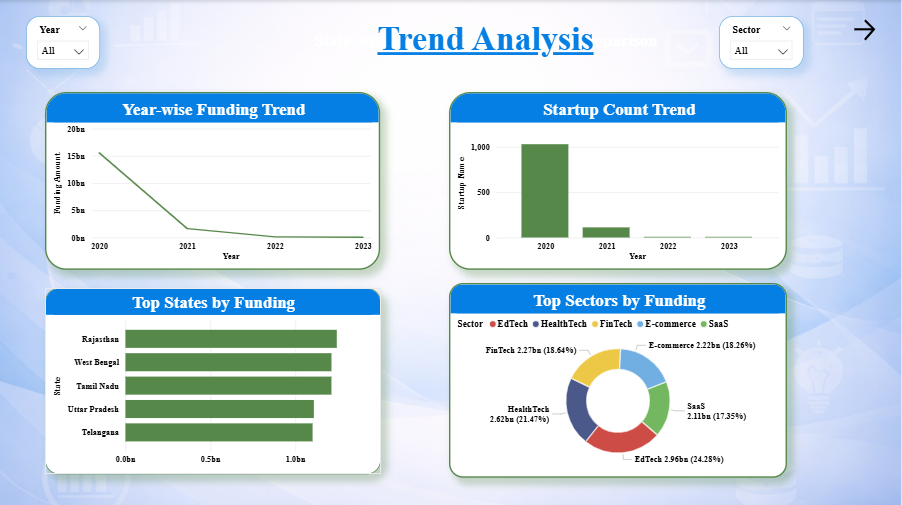

The page's visual inventory and layout, read from the dashboard file:
{"tool":"powerbi","page":{"name":"Trend Analysis","canvas":[1280,720],"ordinal":2},"visuals":[{"type":"textbox","box":[423.8,39.7,538.6,43.9],"z":0},{"type":"slicer","fields":{"Values":["Startup.Sector"]},"box":[1023.3,22.7,120.5,75.1],"z":1000},{"type":"textbox","box":[19,307.5,150,150],"z":2000},{"type":"lineChart","title":"Year-wise Funding Trend","fields":{"Category":["Startup.Year"],"Y":["Sum(Startup.Amount (USD))"]},"box":[68,130.4,474.8,252.3],"z":4000},{"type":"slicer","fields":{"Values":["Startup.Year"]},"box":[41.1,22.7,104.9,75.1],"z":5000},{"type":"columnChart","title":"Startup Count Trend","fields":{"Category":["Startup.Year"],"Y":["CountNonNull(Startup.Startup Name)"]},"box":[640.6,130.4,479.1,252.3],"z":6000},{"type":"barChart","title":"Top States by Funding","fields":{"Category":["Startup.State"],"Y":["Sum(Startup.Amount (USD))"]},"box":[68,408.2,476.2,263.6],"z":7000},{"type":"donutChart","title":"Top Sectors by Funding","fields":{"Category":["Startup.Sector"],"Y":["Sum(Startup.Amount (USD))"]},"box":[640.6,401.1,479.1,276.4],"z":8000},{"type":"actionButton","box":[1179.2,22.7,100.6,39.7],"z":8001},{"type":"textbox","box":[385.5,9.9,613.7,102],"z":8002}]}

Visuals, with their boxes in screenshot pixels (x1, y1, x2, y2), scaled from the page's 1280x720 canvas onto the 902x505 screenshot:
textbox: 299 28 678 59
slicer - Startup.Sector: 721 16 806 69
textbox: 13 216 119 321
"Year-wise Funding Trend" lineChart: 48 91 383 268
slicer - Startup.Year: 29 16 103 69
"Startup Count Trend" columnChart: 451 91 789 268
"Top States by Funding" barChart: 48 286 383 471
"Top Sectors by Funding" donutChart: 451 281 789 475
actionButton: 831 16 901 44
textbox: 272 7 704 78
